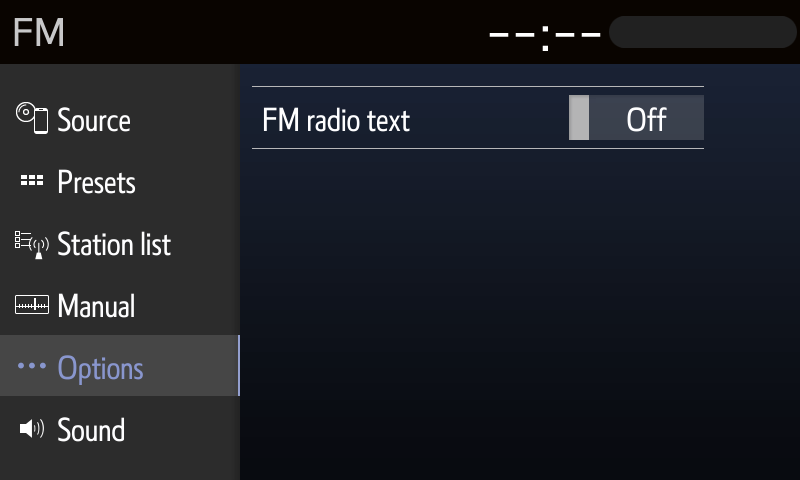touchPart: (12, 226, 175, 269), (567, 94, 703, 139), (10, 409, 135, 451), (10, 99, 133, 139), (7, 290, 139, 322), (12, 169, 140, 201)
untouchPart: (256, 98, 413, 140), (610, 15, 798, 48), (9, 351, 148, 389), (483, 19, 604, 51), (12, 13, 67, 53)
